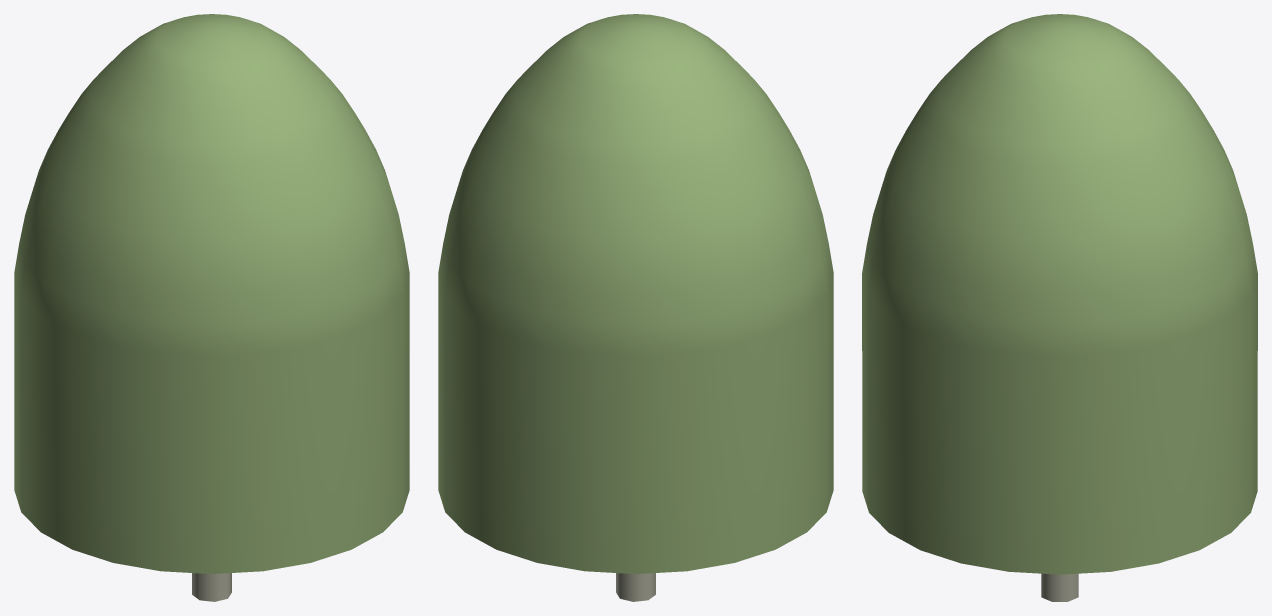
File: FagusSylvatica.glb
The picture shows the model from 3 angles, left to right: view 1: azimuth 30°, elevation 25°; view 2: azimuth 150°, elevation 25°; view 3: azimuth 270°, elevation 25°; orthographic projection.
Visible parts, largest first — view 1: European_Beech__Schematic_LOD3; view 2: European_Beech__Schematic_LOD3; view 3: European_Beech__Schematic_LOD3.
Part boxes in pixels (<box>): European_Beech__Schematic_LOD3: <box>14,14,409,601</box>; European_Beech__Schematic_LOD3: <box>438,14,833,601</box>; European_Beech__Schematic_LOD3: <box>862,14,1257,601</box>.
Size of the model in its own units: 15.26 by 24.15 by 15.26.
